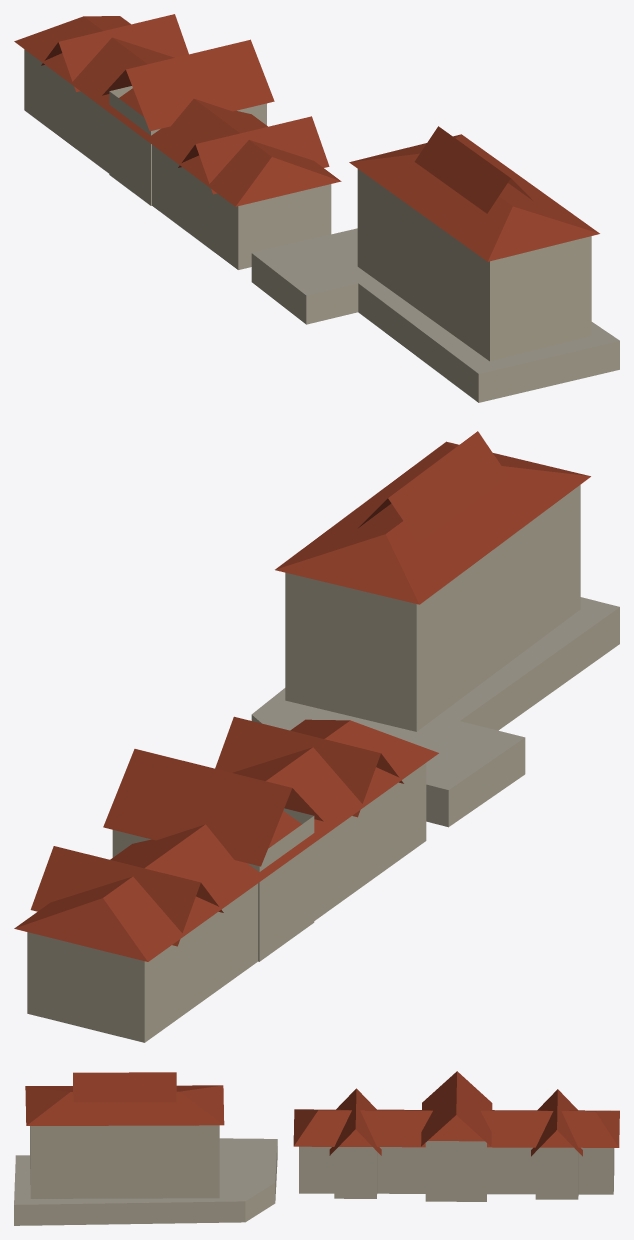
File: kantor-gubernur-riau-lod2.glb
3 views of the same model, one above another, from view 1: azimuth 30°, elevation 25°; view 2: azimuth 150°, elevation 25°; view 3: azimuth 270°, elevation 25° (orthographic). The views are drawn at different scales.
Parts seen in each view (by area): view 1: kantor-gubernur-riau_LOD2; view 2: kantor-gubernur-riau_LOD2; view 3: kantor-gubernur-riau_LOD2.
Part boxes in pixels (x1,y1,x2,y2): kantor-gubernur-riau_LOD2: (14,14,619,402); kantor-gubernur-riau_LOD2: (14,431,619,1042); kantor-gubernur-riau_LOD2: (14,1071,619,1225).
Bounding box in the file's own units: 52.22 × 46.6 × 198.
